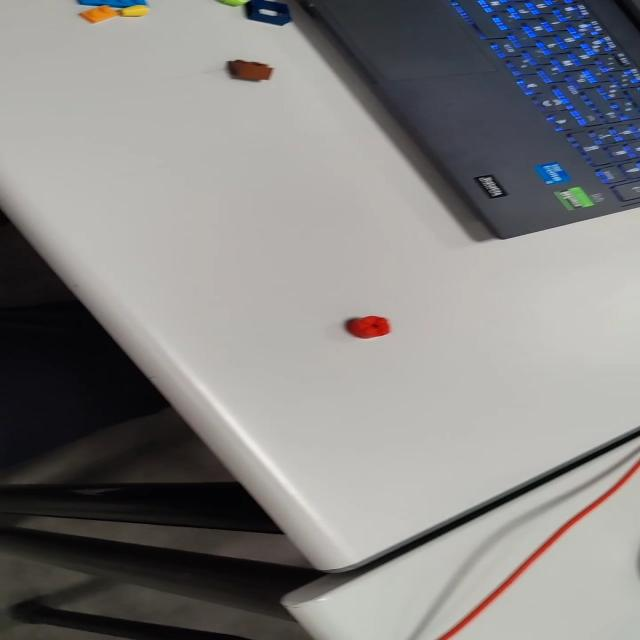S2x2x1: (348, 314, 395, 342)
